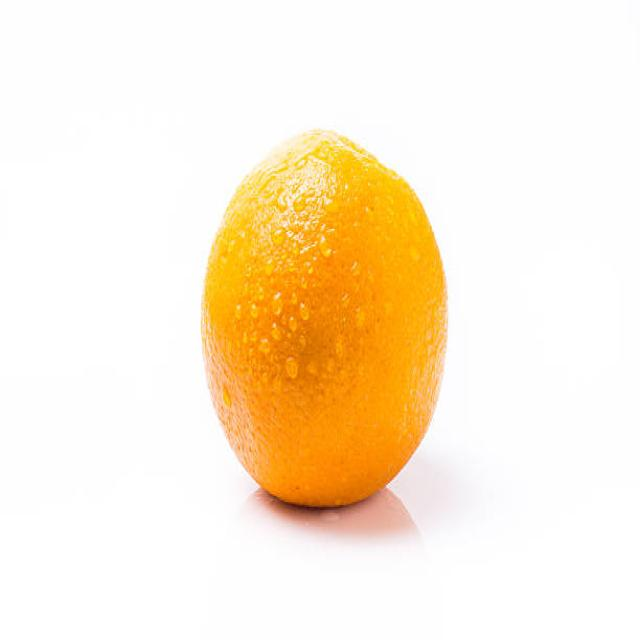Ripe: (198, 120, 453, 509)
